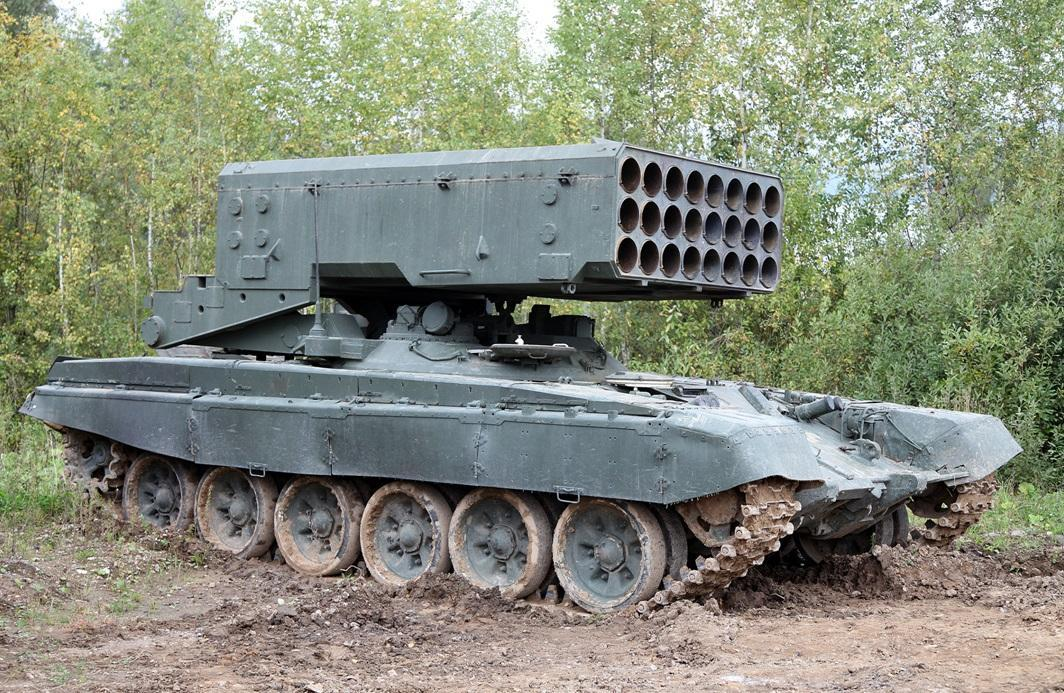rszo: (51, 125, 1005, 602)
